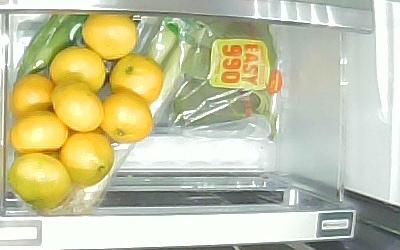tangerine: (8, 153, 71, 210), (60, 131, 113, 185), (100, 92, 155, 143), (81, 14, 138, 60), (50, 47, 106, 93), (52, 81, 102, 132), (109, 55, 163, 102), (11, 111, 68, 152), (10, 74, 53, 118)
